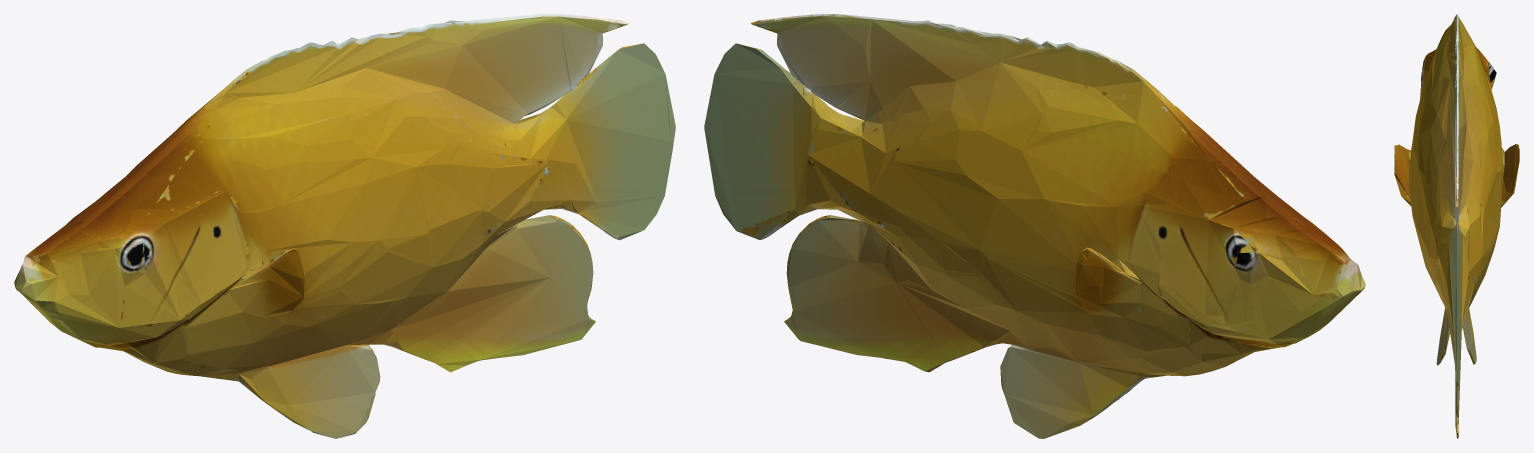
Rendered from fish_0034_smpl23_resized.glb.
3 renders of one model, left to right at view 1: azimuth 30°, elevation 25°; view 2: azimuth 150°, elevation 25°; view 3: azimuth 270°, elevation 25°, orthographic. The views are drawn at different scales.
Visible parts, largest first — view 1: world; view 2: world; view 3: world.
Part boxes in pixels (box(x1,y1,x2,y2)): world: box(14, 14, 675, 438); world: box(704, 14, 1365, 438); world: box(1394, 14, 1519, 438).
Bounding box in the file's own units: 1.99 × 1.13 × 0.3989.
1 material, 1 textured.
